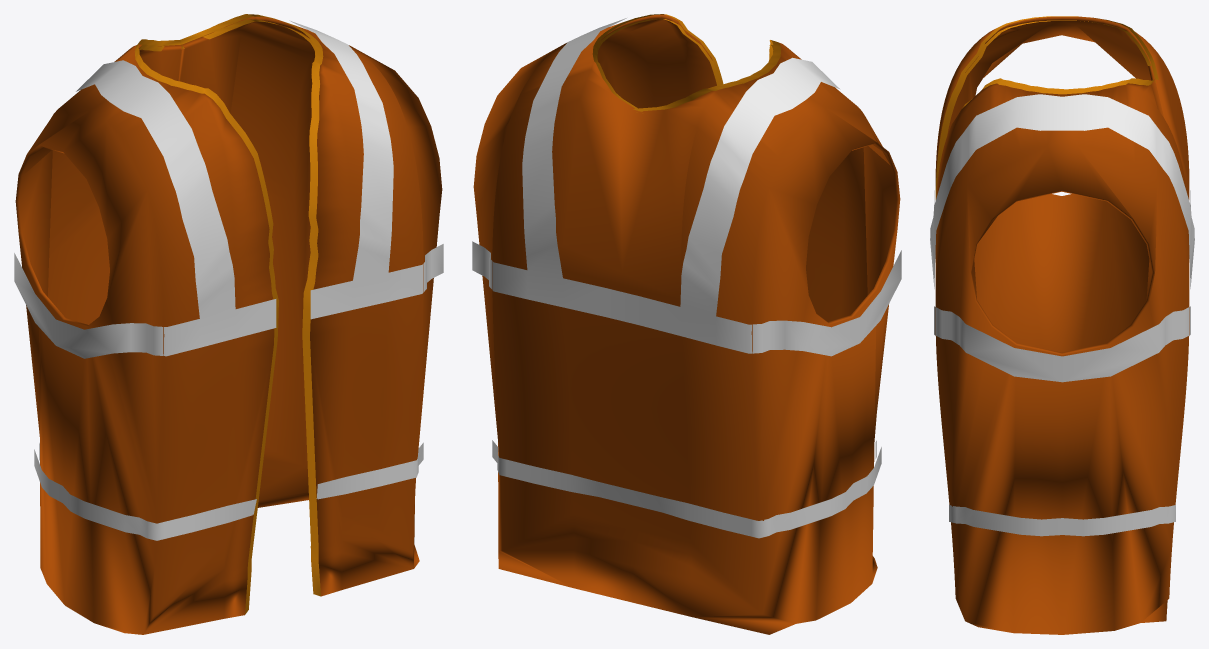
The model's file is Polo.glb.
3 renders of one model, left to right at view 1: azimuth 30°, elevation 25°; view 2: azimuth 150°, elevation 25°; view 3: azimuth 270°, elevation 25°, orthographic.
Visible parts, largest first — view 1: NurbsPath, NurbsPath.001, NurbsPath.002; view 2: NurbsPath, NurbsPath.001, NurbsPath.002; view 3: NurbsPath, NurbsPath.001, NurbsPath.002.
Boxes of the visible parts, x1,y1,x2,y2 form: NurbsPath: (15,16,442,634); NurbsPath.001: (14,20,443,540); NurbsPath.002: (134,14,323,614); NurbsPath: (473,14,900,634); NurbsPath.001: (472,18,901,538); NurbsPath.002: (592,14,781,113); NurbsPath: (935,16,1189,634); NurbsPath.001: (930,94,1194,536); NurbsPath.002: (935,16,1158,199).
Size of the model in its own units: 2.5 by 3.55 by 1.69.
